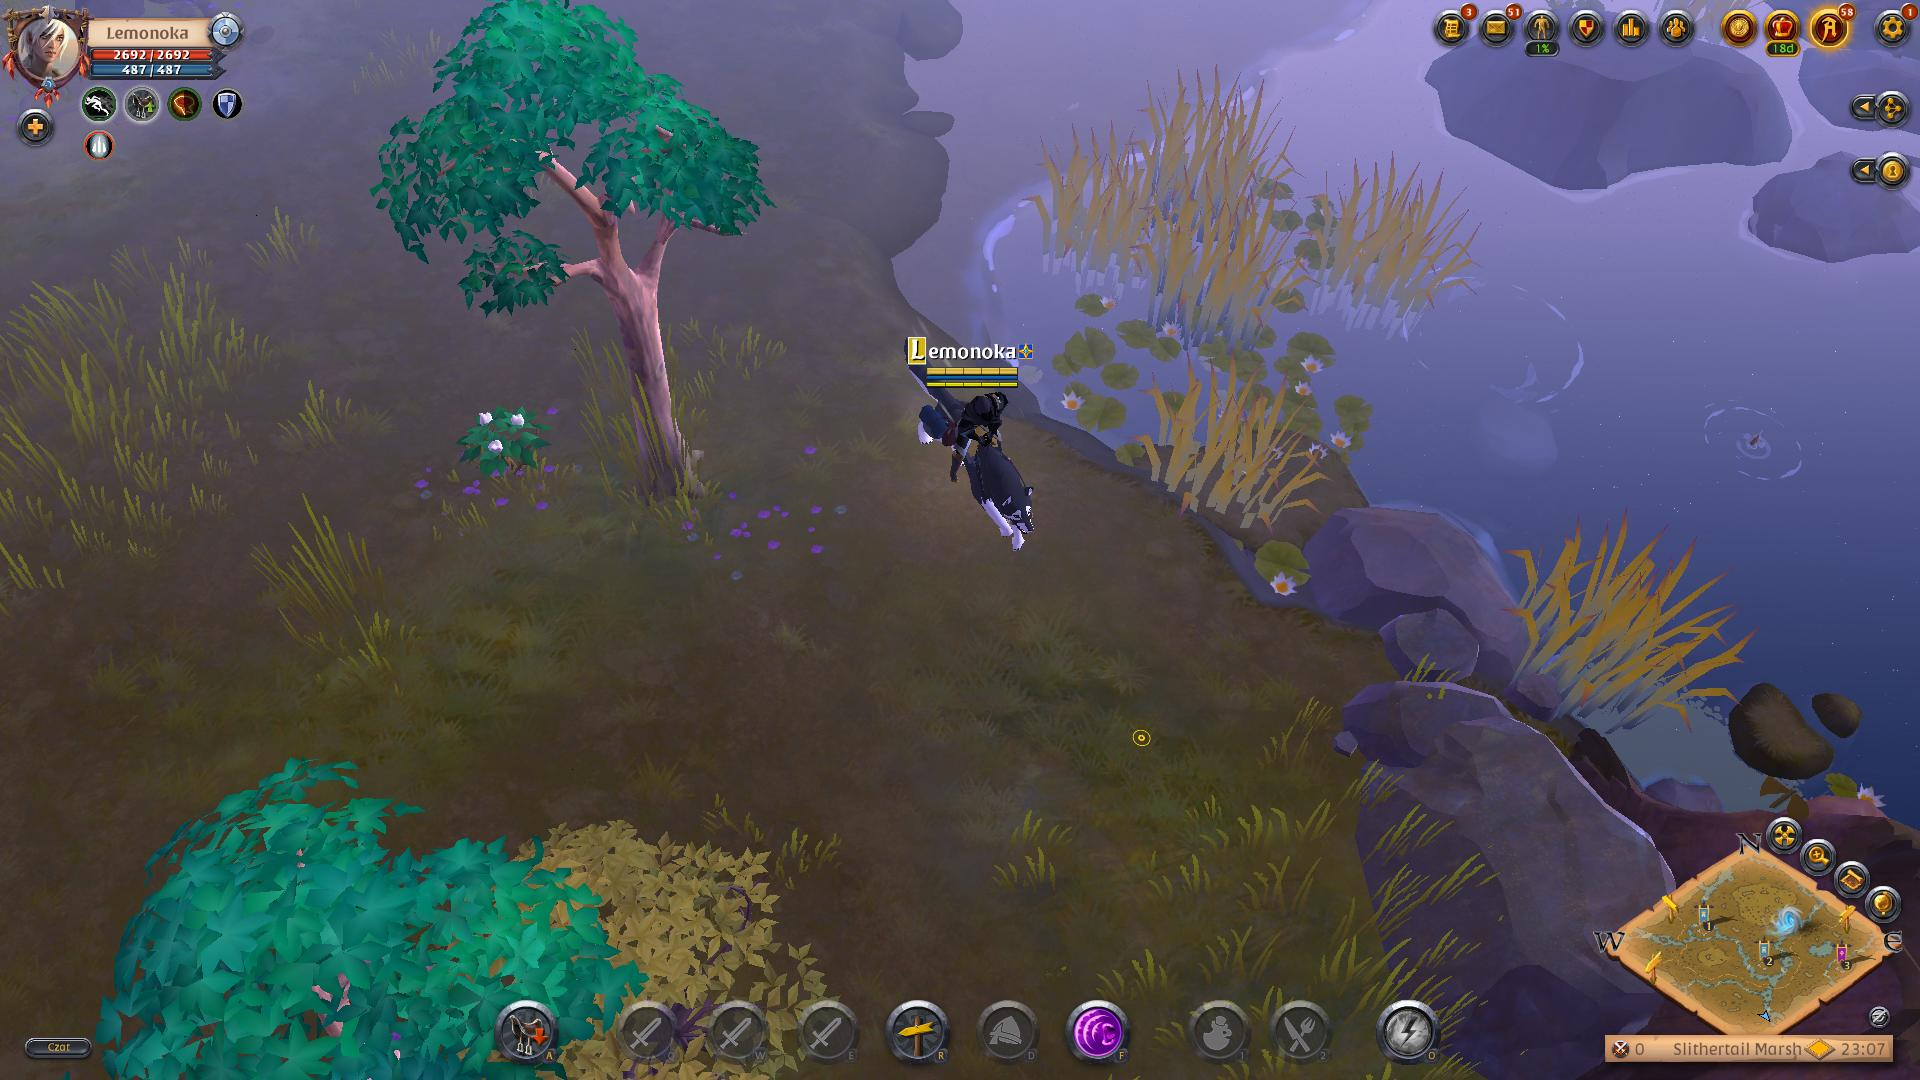fiber tier 3: (447, 398, 562, 495)
fish: (1387, 253, 1598, 422), (1680, 378, 1832, 500)
wood tier 3: (361, 0, 771, 328)
